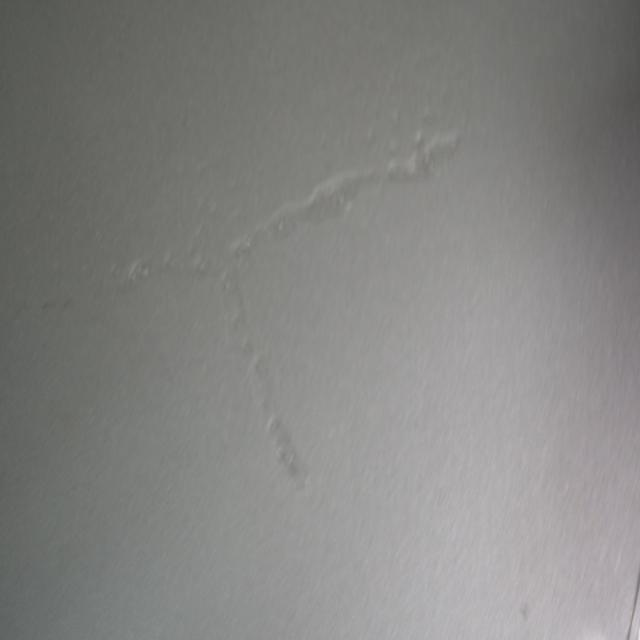runs: (112, 128, 466, 492)
